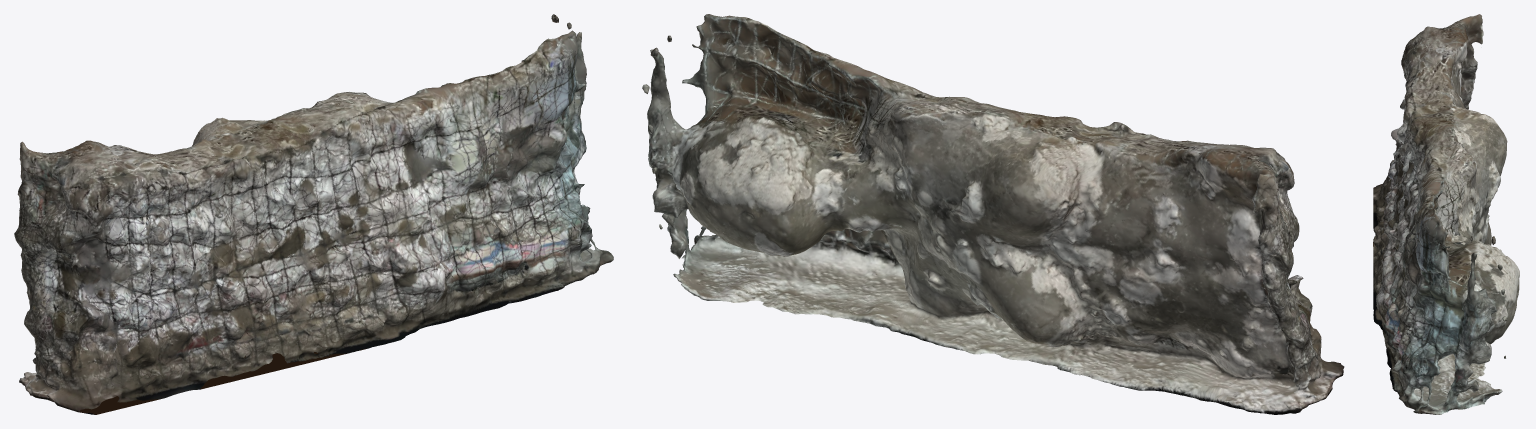
Rendered from FA-006-AVIF.glb.
3 views of the same model, side by side, from view 1: azimuth 30°, elevation 25°; view 2: azimuth 150°, elevation 25°; view 3: azimuth 270°, elevation 25° (orthographic). The views are drawn at different scales.
Visible parts, largest first — view 1: 3DModel; view 2: 3DModel; view 3: 3DModel.
Part boxes in pixels (x1,y1,x2,y2): 3DModel: [14, 14, 613, 414]; 3DModel: [642, 14, 1344, 414]; 3DModel: [1373, 14, 1519, 414].
Size of the model in its own units: 1.08 by 0.4036 by 0.2939.
1 material, 1 textured.
